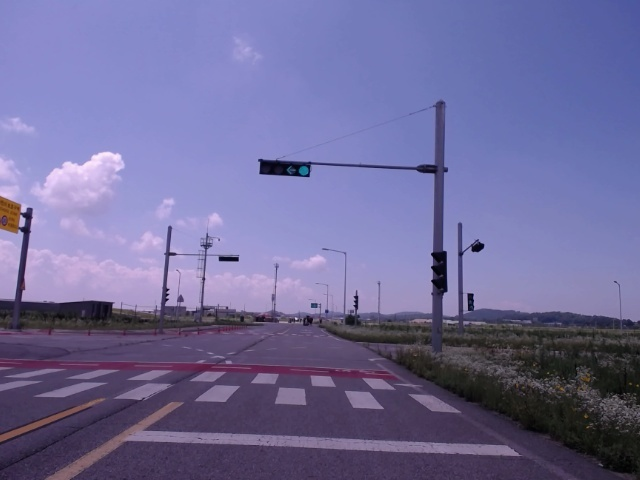all_green_4: (260, 158, 316, 178)
